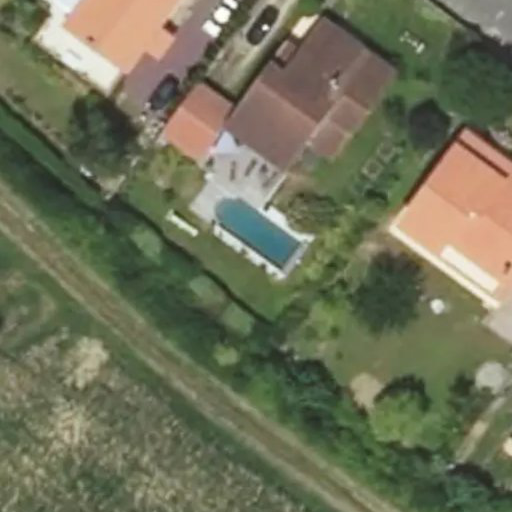pool: (212, 230, 298, 253)
